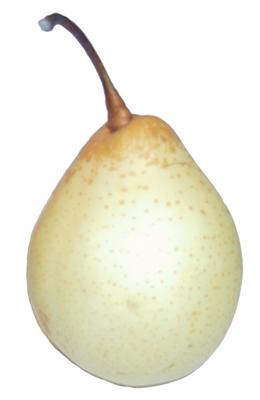pear: (0, 0, 260, 400)
